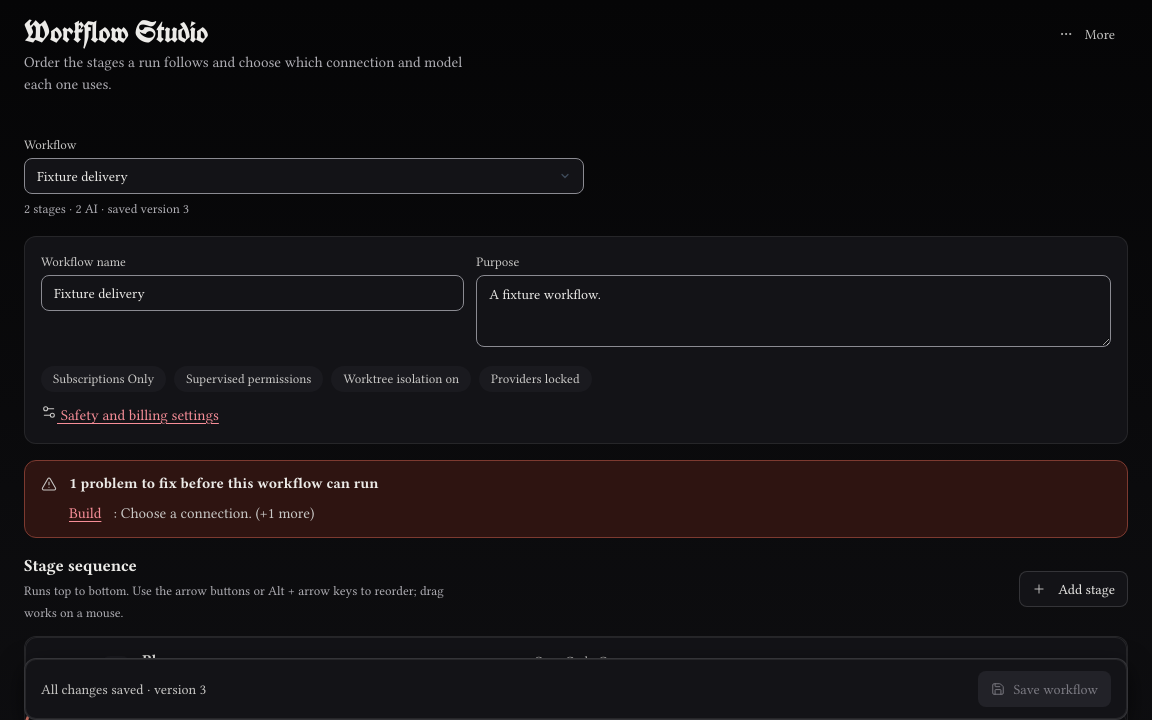
unsaved changes and saving › keeps the draft and says what to do when the Desktop Master cannot be reached
Replace the text in the field labelled "Workflow name" with "Renamed" at (253,293), box [41,275,464,311]
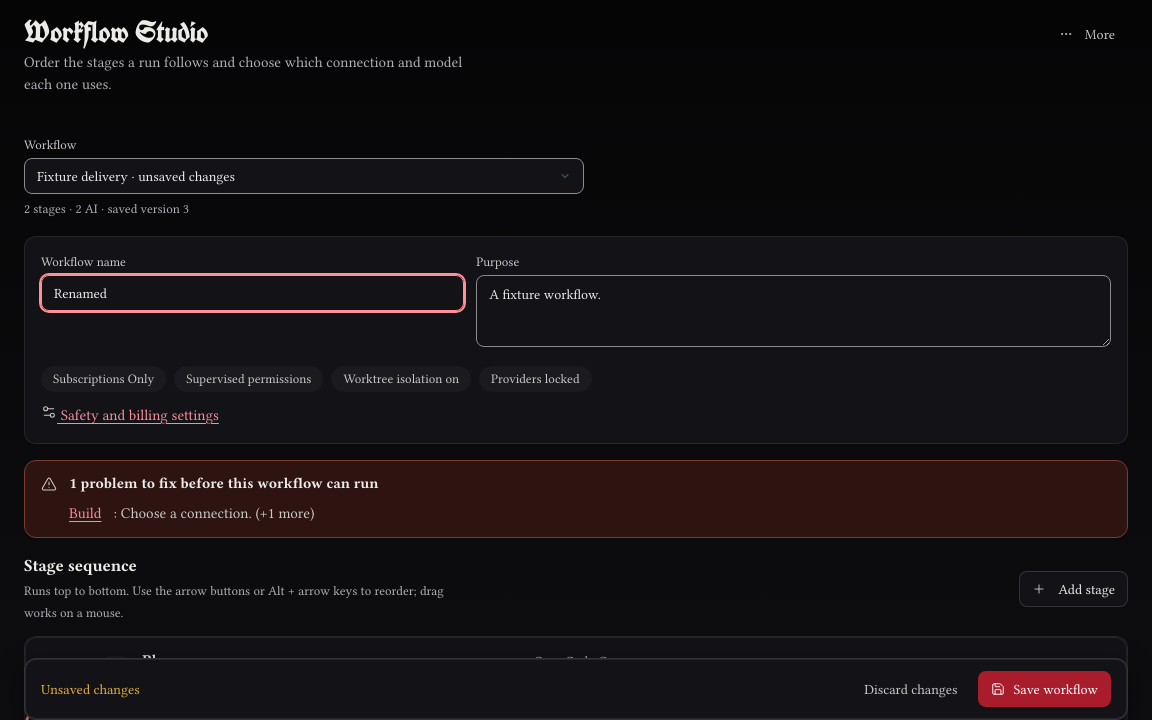
Click the button "Save workflow" at (1045,689), box [978,671,1111,707]
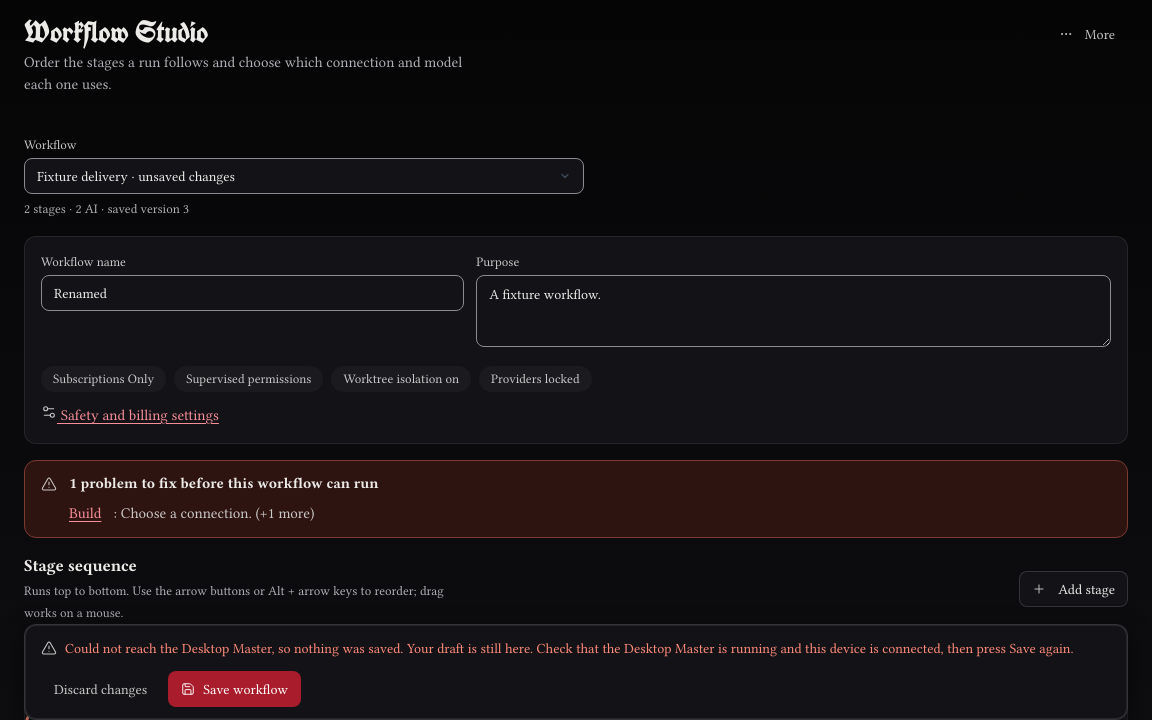
Expected: the button "Save workflow" is enabled, [168,671,301,707]
Expected: the text "Could not reach the Desktop Master" is shown, [65,640,1074,656]
